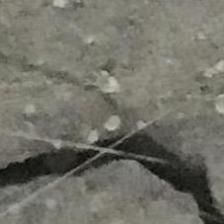Crack: (0, 19, 222, 224)
